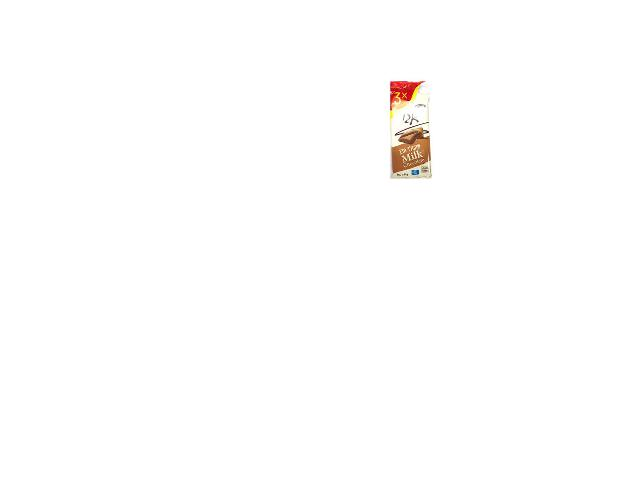chocolate: (386, 78, 433, 176)
